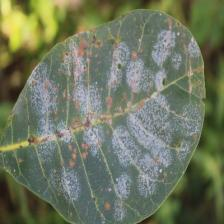red rust: (0, 8, 206, 224)
